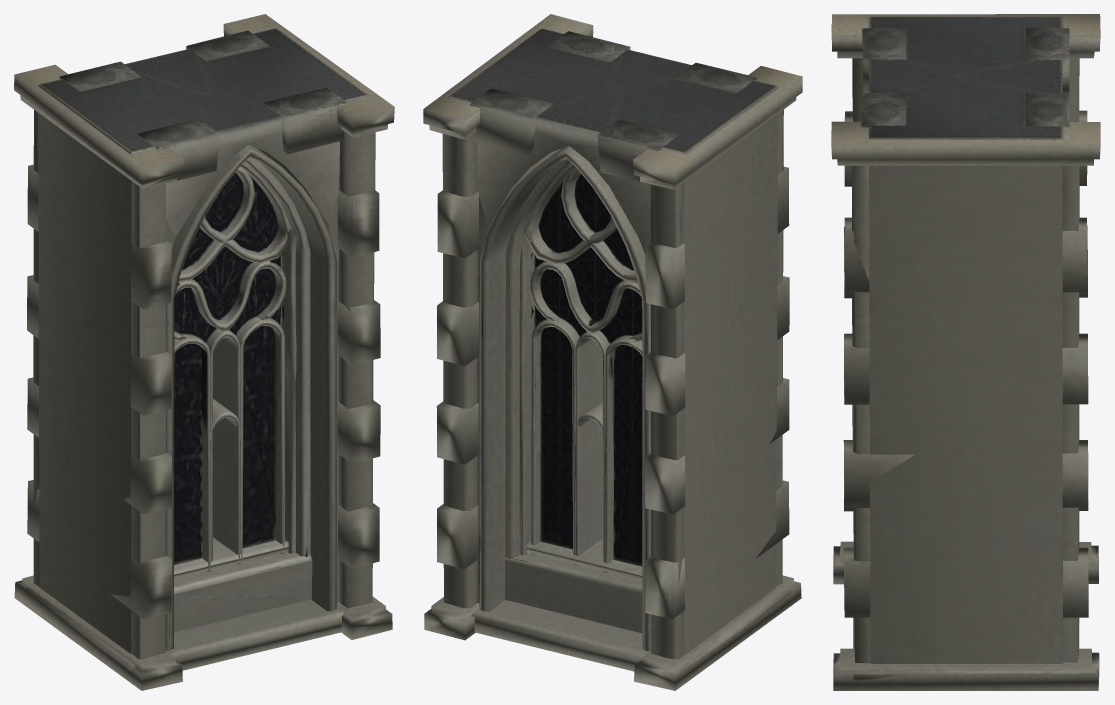
File: castle-wall-window-v2.glb
3 views of the same model, side by side, from view 1: azimuth 30°, elevation 25°; view 2: azimuth 150°, elevation 25°; view 3: azimuth 270°, elevation 25° (orthographic). The views are drawn at different scales.
Visible parts, largest first — view 1: MeshyStructuralSurface, WindowGlass; view 2: MeshyStructuralSurface, WindowGlass; view 3: MeshyStructuralSurface.
Boxes of the visible parts, x1,y1,x2,y2 form: MeshyStructuralSurface: (14,14,394,690); WindowGlass: (174,172,281,565); MeshyStructuralSurface: (423,14,802,690); WindowGlass: (534,173,642,566); MeshyStructuralSurface: (831,14,1100,690).
Size of the model in its own units: 0.5032 by 1 by 0.4436.
Materials: 2 (2 with a texture image).
